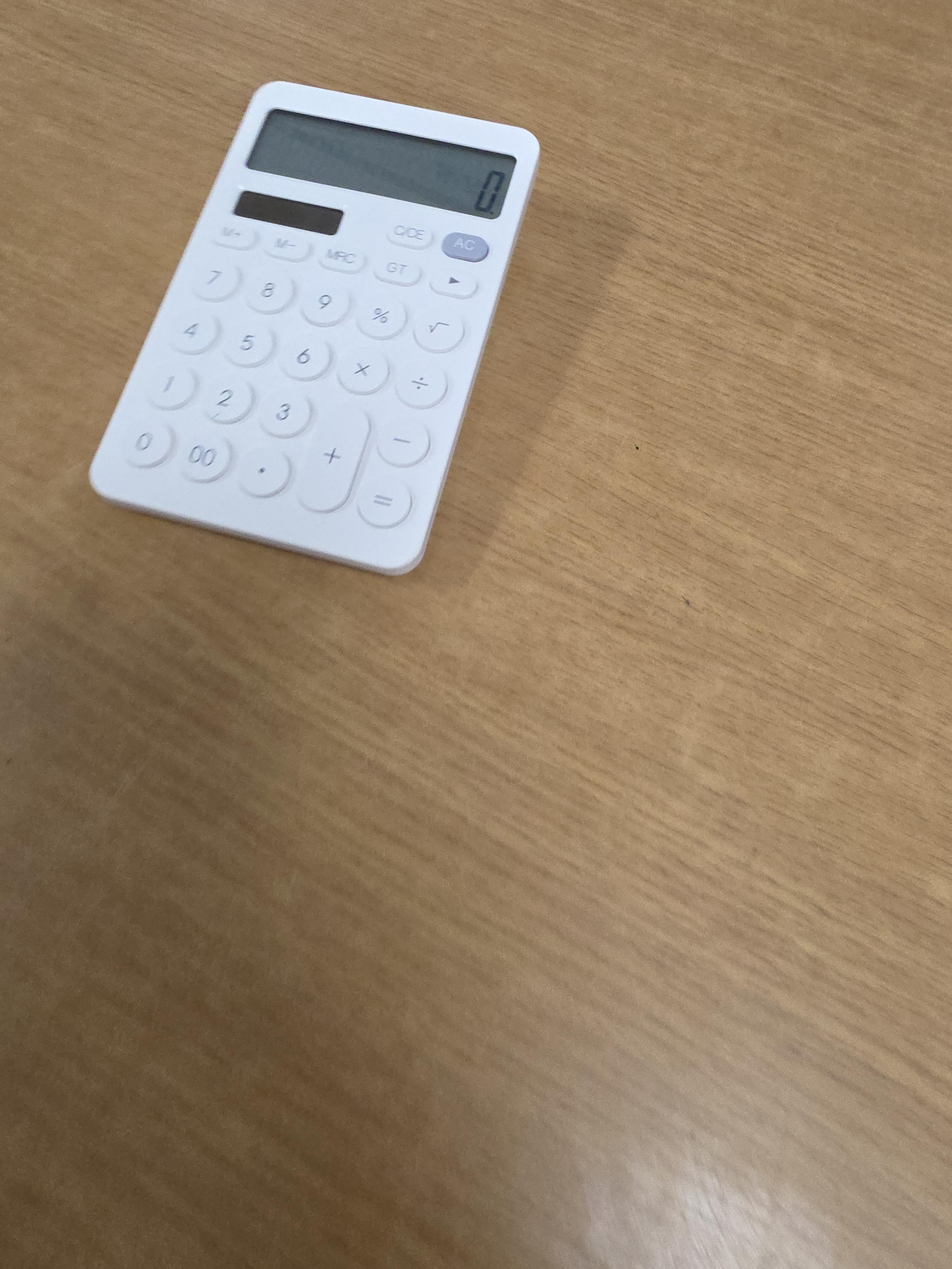calculator: (89, 81, 540, 575)
